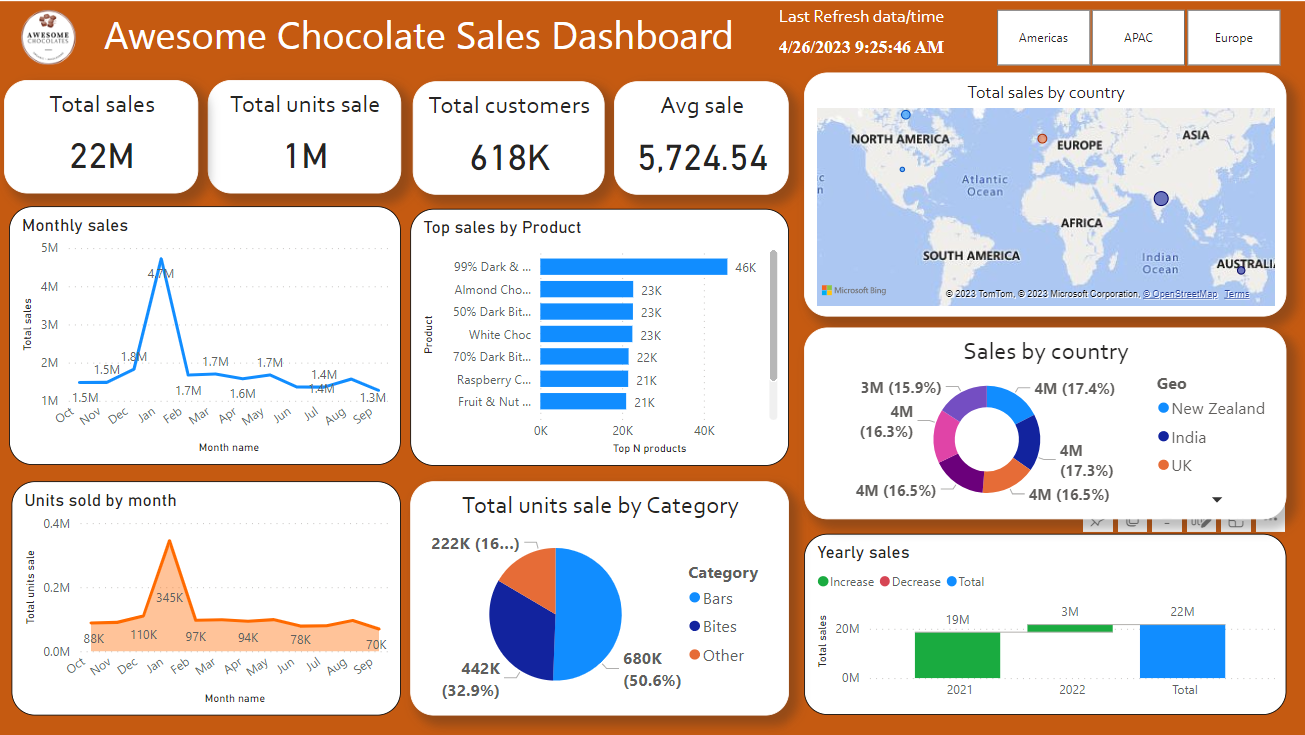

The dashboard page shown, as its layout file describes it:
{"tool":"powerbi","page":{"name":"Home","canvas":[1280,737],"ordinal":0},"visuals":[{"type":"card","title":"Total units sale","fields":{"Values":["sales.Total units sale"]},"box":[204.5,83.7,189.4,111.1],"z":0},{"type":"card","title":"Last Refresh data/time","fields":{"Values":["Min(Last Refreshed date/time.last date/time)"]},"box":[719,9.6,252.5,63.1],"z":1000},{"type":"card","title":"Total sales","fields":{"Values":["sales.TOTAL SALES"]},"box":[5.5,83.7,190.7,111.1],"z":2000},{"type":"card","title":"Total customers","fields":{"Values":["sales.Total customers"]},"box":[404.9,83.9,187.6,111.1],"z":3000},{"type":"card","title":"Avg sale","fields":{"Values":["sales.Average"]},"box":[602.4,83.9,171.6,111.1],"z":4000},{"type":"image","box":[0,9.6,96.1,63.1],"z":5000},{"type":"textbox","box":[97.4,8.2,713.6,67.2],"z":6000},{"type":"waterfallChart","title":"Yearly sales","fields":{"Category":["dDate.Year"],"Y":["sales.TOTAL SALES"]},"box":[788.8,528.4,472.8,177.8],"z":7000},{"type":"stackedAreaChart","title":"Units sold by month","fields":{"Y":["sales.Total units sale"],"Category":["dDate.Month name"]},"box":[12.3,476.5,381.5,229.6],"z":8000},{"type":"slicer","fields":{"Values":["locations.Region"]},"box":[952.3,6.9,328,68.6],"z":9000},{"type":"clusteredColumnChart","title":"Monthly sales","fields":{"Category":["dDate.Month name"],"Y":["sales.Total sales"]},"box":[9.6,207.2,384.2,253.9],"z":10000},{"type":"clusteredBarChart","title":"Top sales by Product","fields":{"Category":["sales.Product"],"Y":["sales.Top N products"]},"box":[402.4,209.9,371.6,251.8],"z":11000},{"type":"map","title":"Total sales by country","fields":{"Category":["locations.Geo"],"Size":["sales.TOTAL SALES"],"Series":["locations.Region"]},"box":[788.8,76.5,472.8,239.5],"z":12000},{"type":"pieChart","fields":{"Category":["products.Category","products.Product"],"Y":["sales.Total units sale"]},"box":[402.4,476.5,371.6,229.6],"z":13000},{"type":"donutChart","title":"Sales by country","fields":{"Y":["sales.TOTAL SALES"],"Category":["locations.Geo"]},"box":[788.8,325.9,472.8,187.6],"z":14000},{"type":"actionButton","box":[0,0,100,40],"z":15000}]}

Visuals, with their boxes in screenshot pixels (x1, y1, x2, y2), scaled from the page's 1280x737 canvas onto the 1305x735 screenshot:
"Total units sale" card: 208/83/402/194
"Last Refresh data/time" card: 733/10/990/73
"Total sales" card: 6/83/200/194
"Total customers" card: 413/84/604/194
"Avg sale" card: 614/84/789/194
image: 0/10/98/73
textbox: 99/8/827/75
"Yearly sales" waterfallChart: 804/527/1286/704
"Units sold by month" stackedAreaChart: 13/475/401/704
slicer - locations.Region: 971/7/1304/75
"Monthly sales" clusteredColumnChart: 10/207/401/460
"Top sales by Product" clusteredBarChart: 410/209/789/460
"Total sales by country" map: 804/76/1286/315
pieChart - products.Category x products.Product: 410/475/789/704
"Sales by country" donutChart: 804/325/1286/512
actionButton: 0/0/102/40
